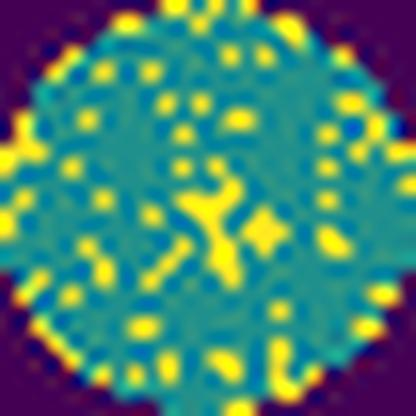Center: (172, 143, 247, 297)
